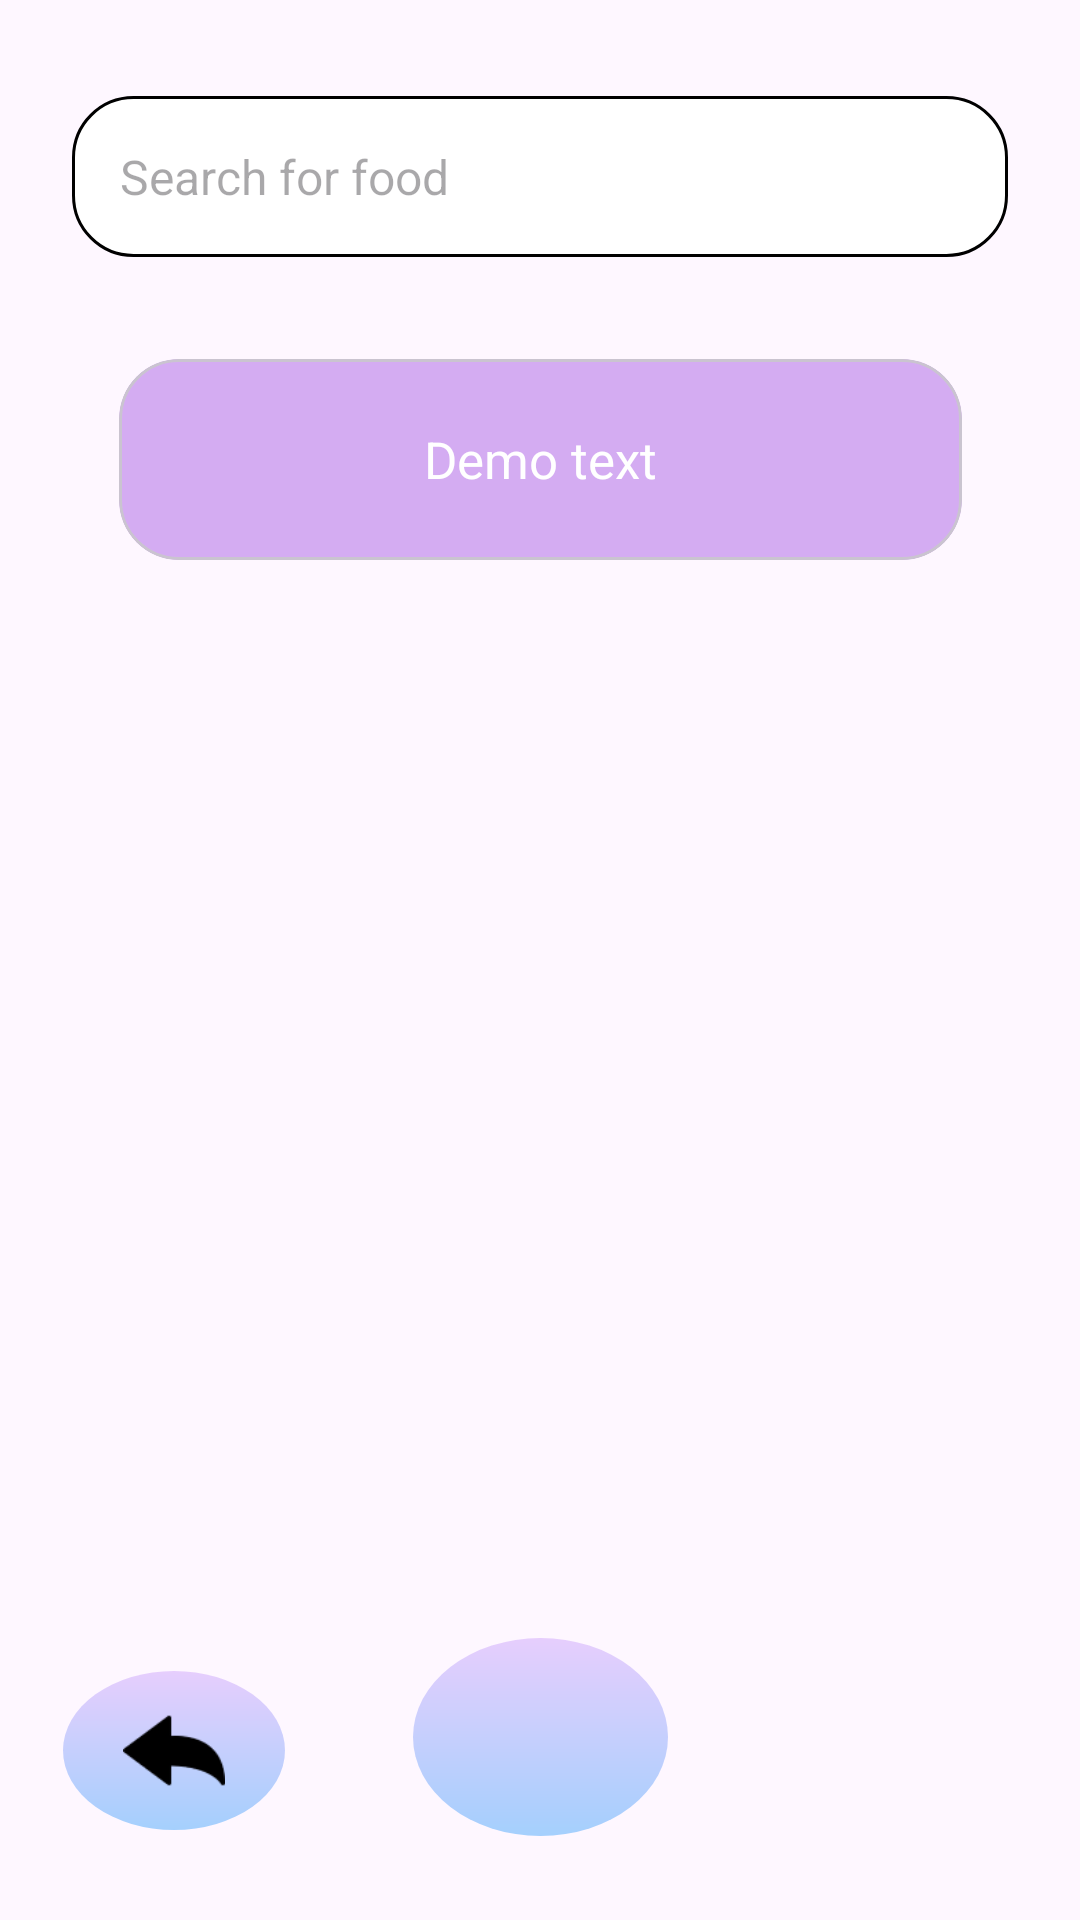

Icons on this 1080*1920 Android screen, each with the point to tap as (x,y):
turn left: (174,1750)
